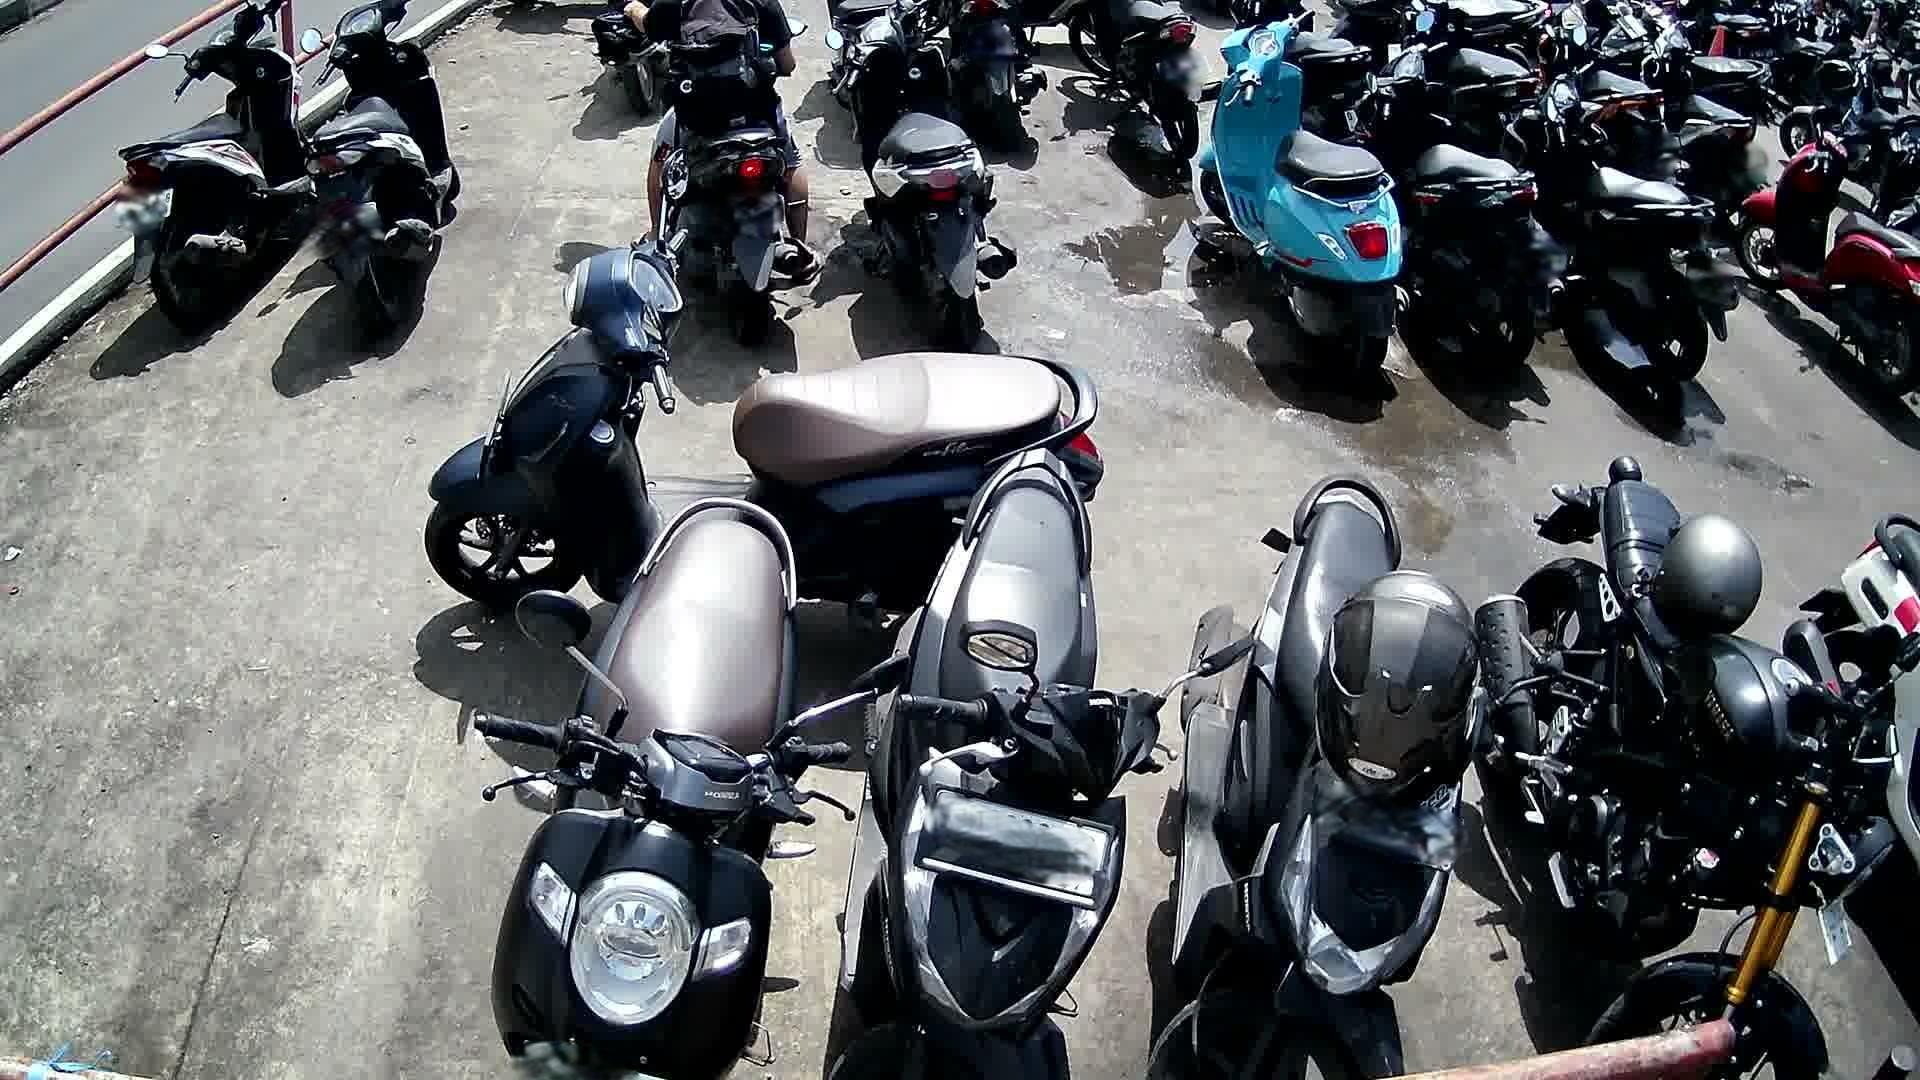motorcycle: (421, 224, 1102, 615), (1474, 452, 1895, 1080), (818, 447, 1220, 1080), (472, 497, 882, 1080), (1153, 476, 1490, 1080), (1195, 1, 1412, 400), (1345, 11, 1572, 384), (1495, 57, 1738, 389), (823, 0, 1022, 349), (113, 0, 315, 343), (301, 0, 462, 334), (1733, 117, 1920, 402), (1785, 512, 1920, 869), (678, 13, 814, 351)
